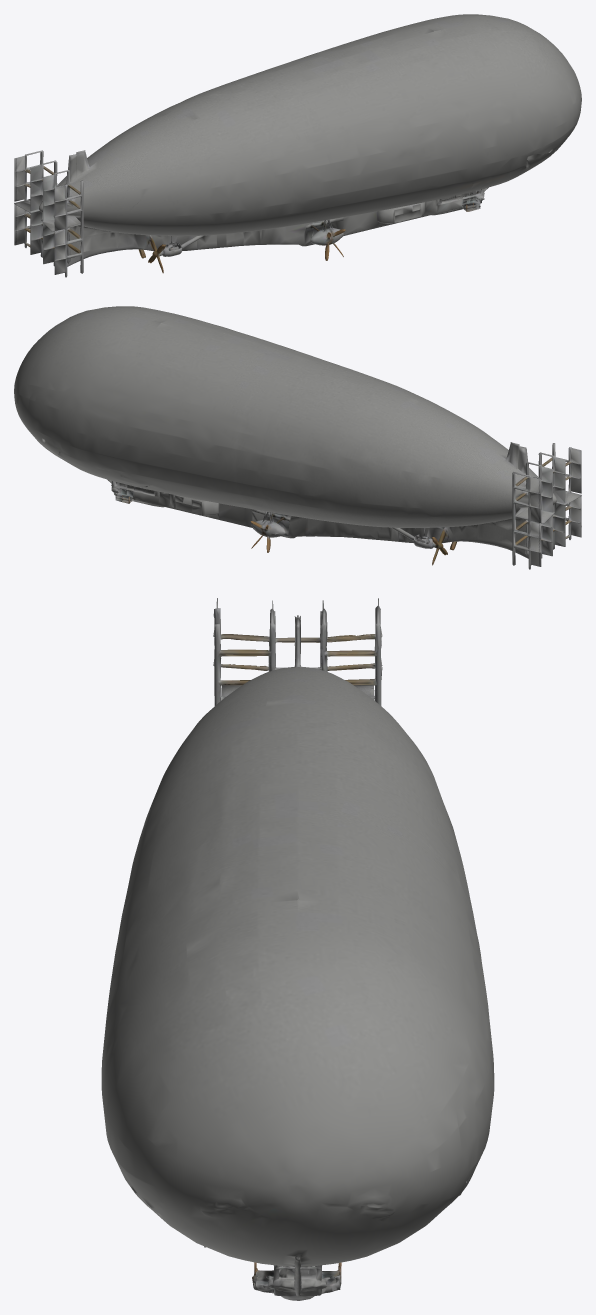
File: opera02.glb
3 renders of one model, top to bottom at view 1: azimuth 30°, elevation 25°; view 2: azimuth 150°, elevation 25°; view 3: azimuth 270°, elevation 25°, orthographic. The views are drawn at different scales.
Parts seen in each view (by area): view 1: tripo_node_887d060c-1560-40b7-9a21-eecd79bdec4b; view 2: tripo_node_887d060c-1560-40b7-9a21-eecd79bdec4b; view 3: tripo_node_887d060c-1560-40b7-9a21-eecd79bdec4b.
Part boxes in pixels (x1,y1,x2,y2): tripo_node_887d060c-1560-40b7-9a21-eecd79bdec4b: (14, 14, 581, 277); tripo_node_887d060c-1560-40b7-9a21-eecd79bdec4b: (14, 306, 581, 569); tripo_node_887d060c-1560-40b7-9a21-eecd79bdec4b: (101, 598, 494, 1300).
Bounding box in the file's own units: 0.9999 × 0.3264 × 0.3165.
Materials: 1 (1 with a texture image).
